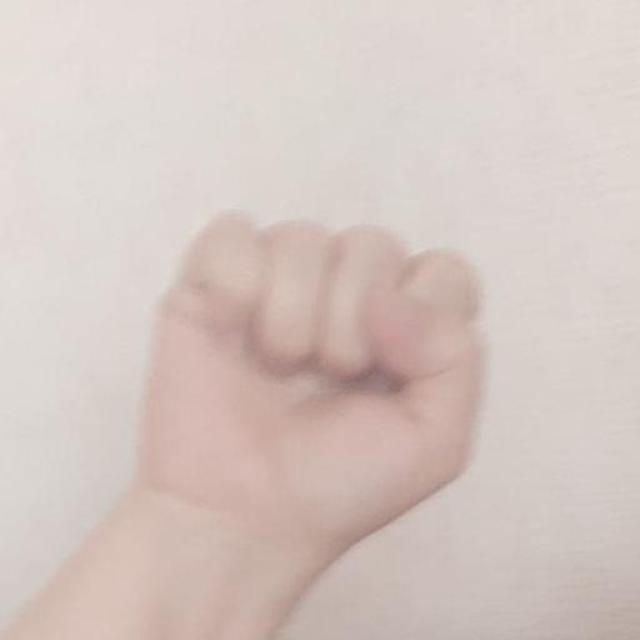hand: (135, 206, 486, 554)
